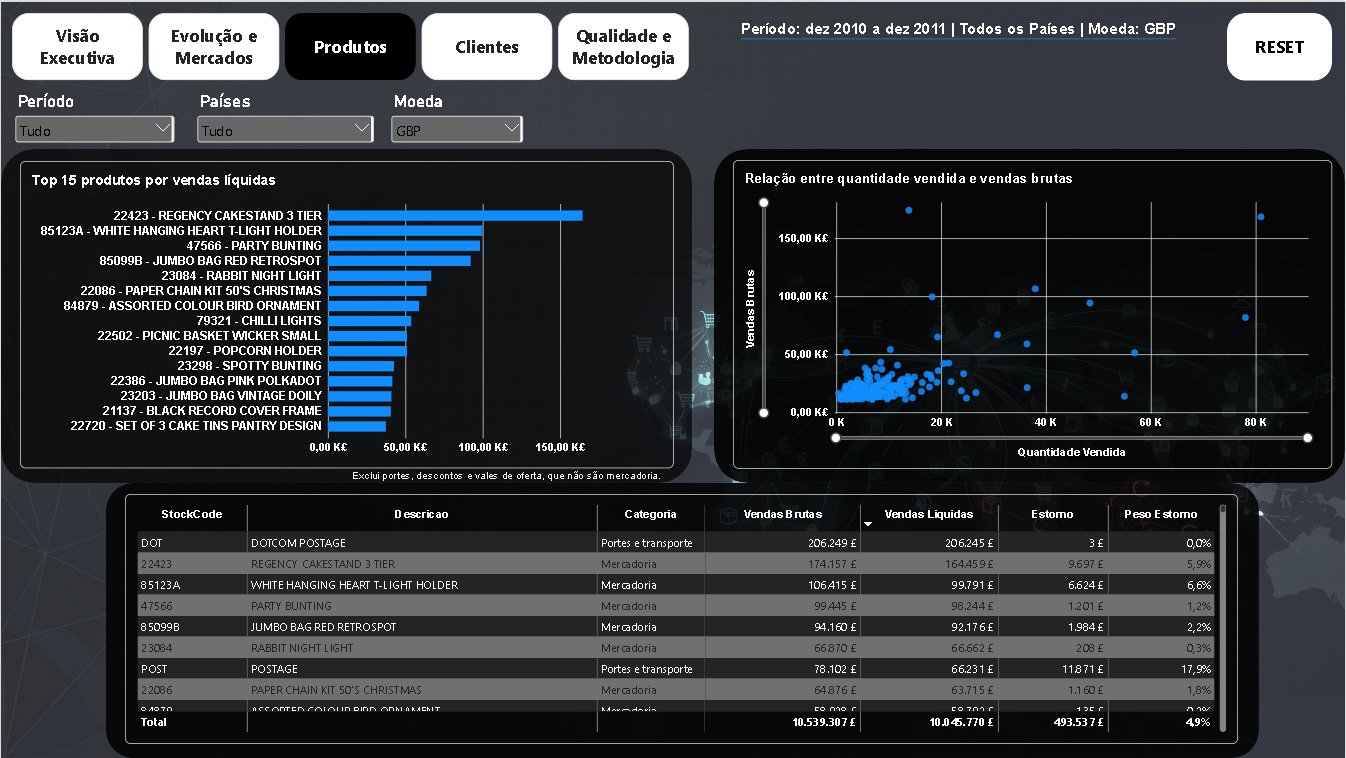

This screenshot's page, from the dashboard's own definition file:
{"tool":"powerbi","page":{"name":"Produtos","canvas":[1920,1080],"ordinal":2},"visuals":[{"type":"actionButton","box":[1751.7,15,150,96.7],"z":0},{"type":"pageNavigator","box":[15,15,971.7,96.7],"z":1000},{"type":"slicer","title":"Período","fields":{"Values":["dCalendario.MesAno"]},"box":[15,128.3,236.7,96.7],"z":2000},{"type":"slicer","title":"Período","fields":{"Values":["dPais.PaisPT"]},"box":[275,128.3,261.7,96.7],"z":3000},{"type":"slicer","title":"Período","fields":{"Values":["dMoeda.Moeda"]},"box":[553.3,128.3,198.3,96.7],"z":4000},{"type":"textbox","box":[1056.7,26.7,678.3,101.7],"z":5000},{"type":"shape","box":[0,210,987.1,477.1],"z":6000},{"type":"barChart","title":"Top 15 produtos por vendas líquidas","fields":{"Category":["dProduto.ProdutoLabel"],"Y":["_Medidas.Vendas Liquidas Mercadoria"]},"box":[27.1,227.1,934.3,438.6],"z":7000},{"type":"shape","box":[1018.6,210,901.4,477.1],"z":8000},{"type":"scatterChart","title":"Relação entre quantidade vendida e vendas brutas","fields":{"Category":["dProduto.StockCode"],"X":["_Medidas.Quantidade Vendida"],"Y":["_Medidas.Vendas Brutas Mercadoria"]},"box":[1045.7,225.7,855.7,441.4],"z":9000},{"type":"textbox","box":[501.4,665.7,485.7,18.6],"z":10000},{"type":"shape","box":[150,687.1,1647.1,392.9],"z":11000},{"type":"tableEx","fields":{"Values":["dProduto.StockCode","dProduto.Descricao","dProduto.Categoria","_Medidas.Vendas Brutas","_Medidas.Vendas Liquidas","_Medidas.Estorno","_Medidas.Peso Estorno"]},"box":[177.1,702.9,1590,357.1],"z":12000}]}

Visuals, with their boxes in screenshot pixels (x1, y1, x2, y2), scaled from the page's 1920x1080 canvas onto the 1346x758 screenshot:
actionButton: (left=1228, top=11, right=1333, bottom=78)
pageNavigator: (left=11, top=11, right=692, bottom=78)
"Período" slicer: (left=11, top=90, right=176, bottom=158)
"Período" slicer: (left=193, top=90, right=376, bottom=158)
"Período" slicer: (left=388, top=90, right=527, bottom=158)
textbox: (left=741, top=19, right=1216, bottom=90)
shape: (left=0, top=147, right=692, bottom=482)
"Top 15 produtos por vendas líquidas" barChart: (left=19, top=159, right=674, bottom=467)
shape: (left=714, top=147, right=1345, bottom=482)
"Relação entre quantidade vendida e vendas brutas" scatterChart: (left=733, top=158, right=1333, bottom=468)
textbox: (left=352, top=467, right=692, bottom=480)
shape: (left=105, top=482, right=1260, bottom=757)
tableEx - dProduto.StockCode x dProduto.Descricao: (left=124, top=493, right=1239, bottom=744)
